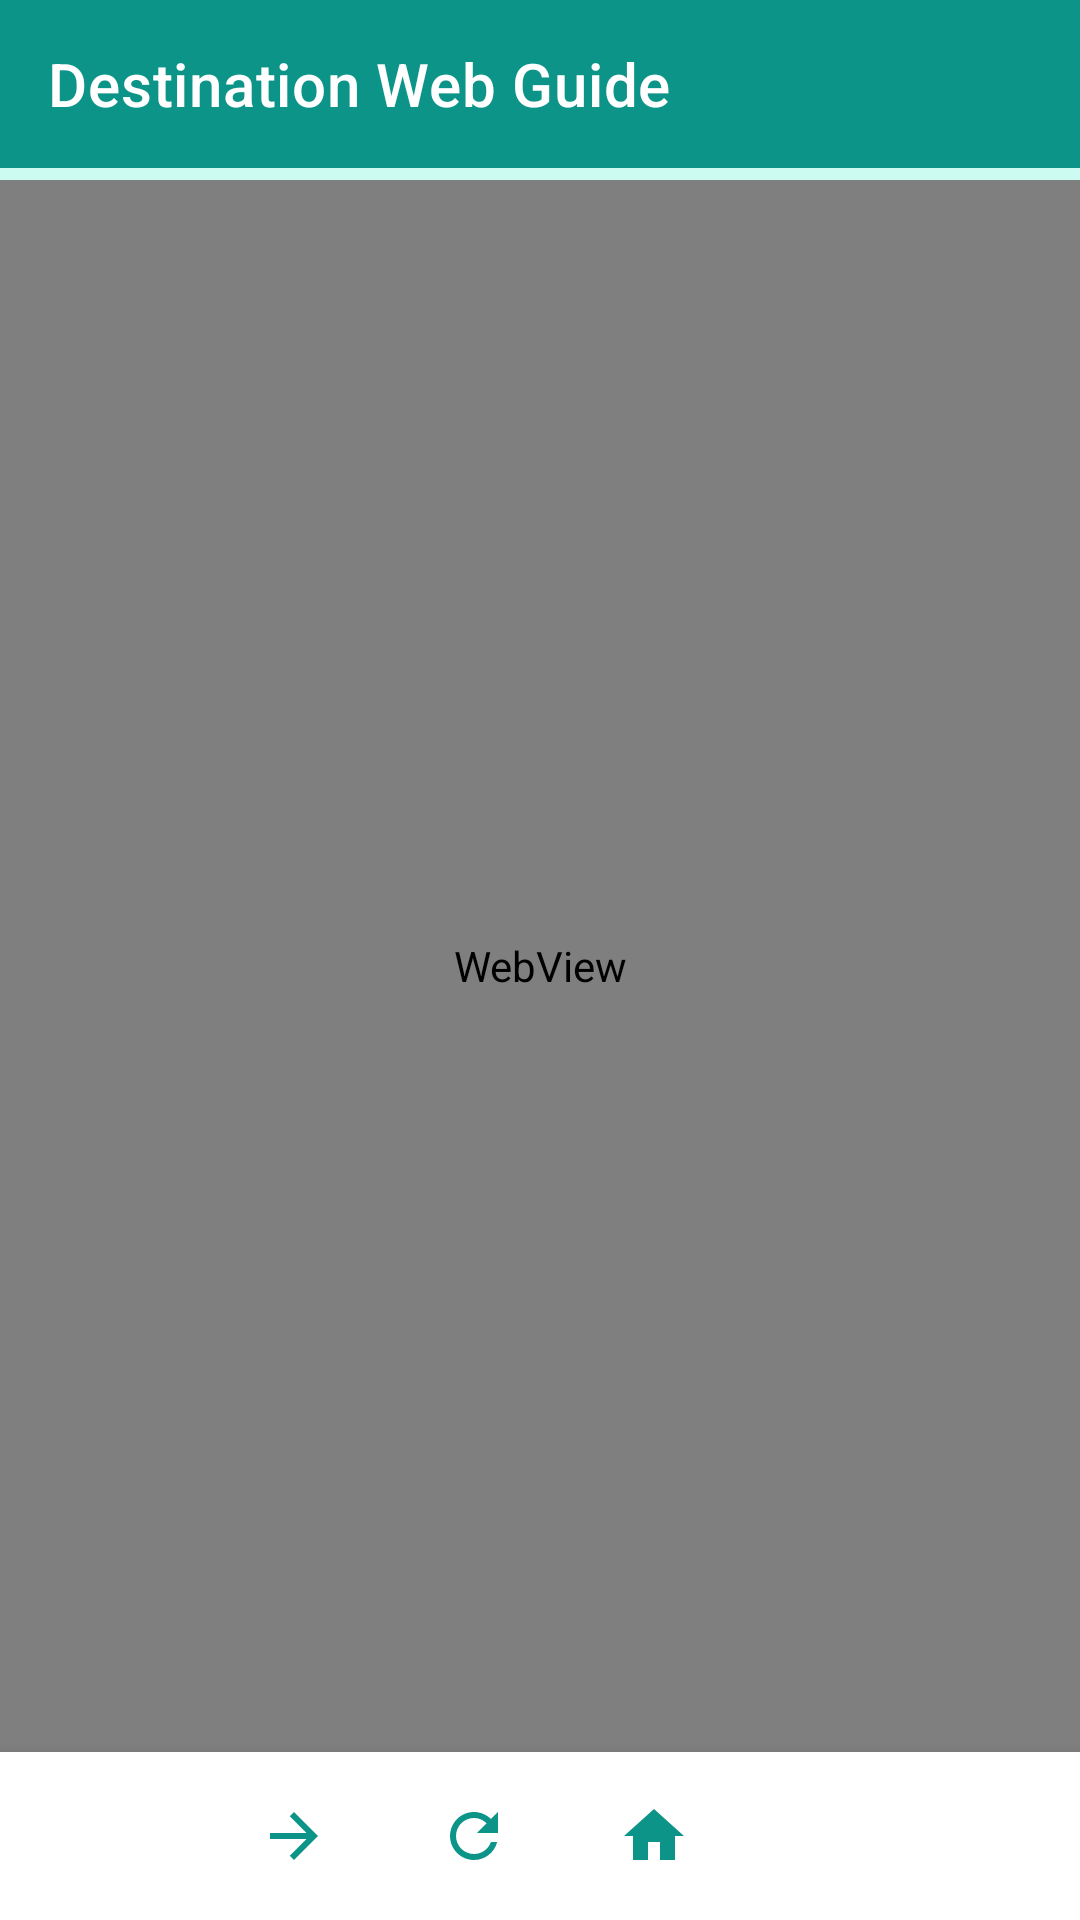

Point at icon controls on the screen. Image size 1080 x 1920, points as [x,y].
Forward: [294,1836]
Home: [654,1834]
Refresh: [474,1836]
